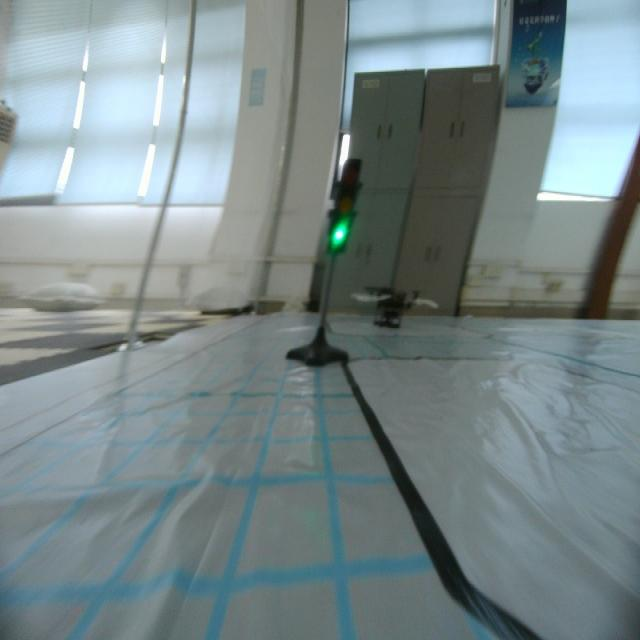green: (328, 156, 358, 259)
